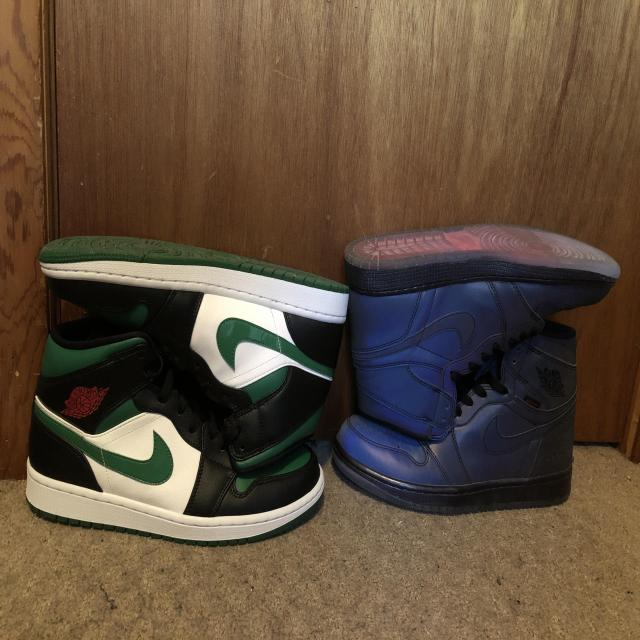shoe: (12, 318, 330, 556), (32, 235, 346, 463), (332, 214, 640, 446), (326, 313, 588, 519)
